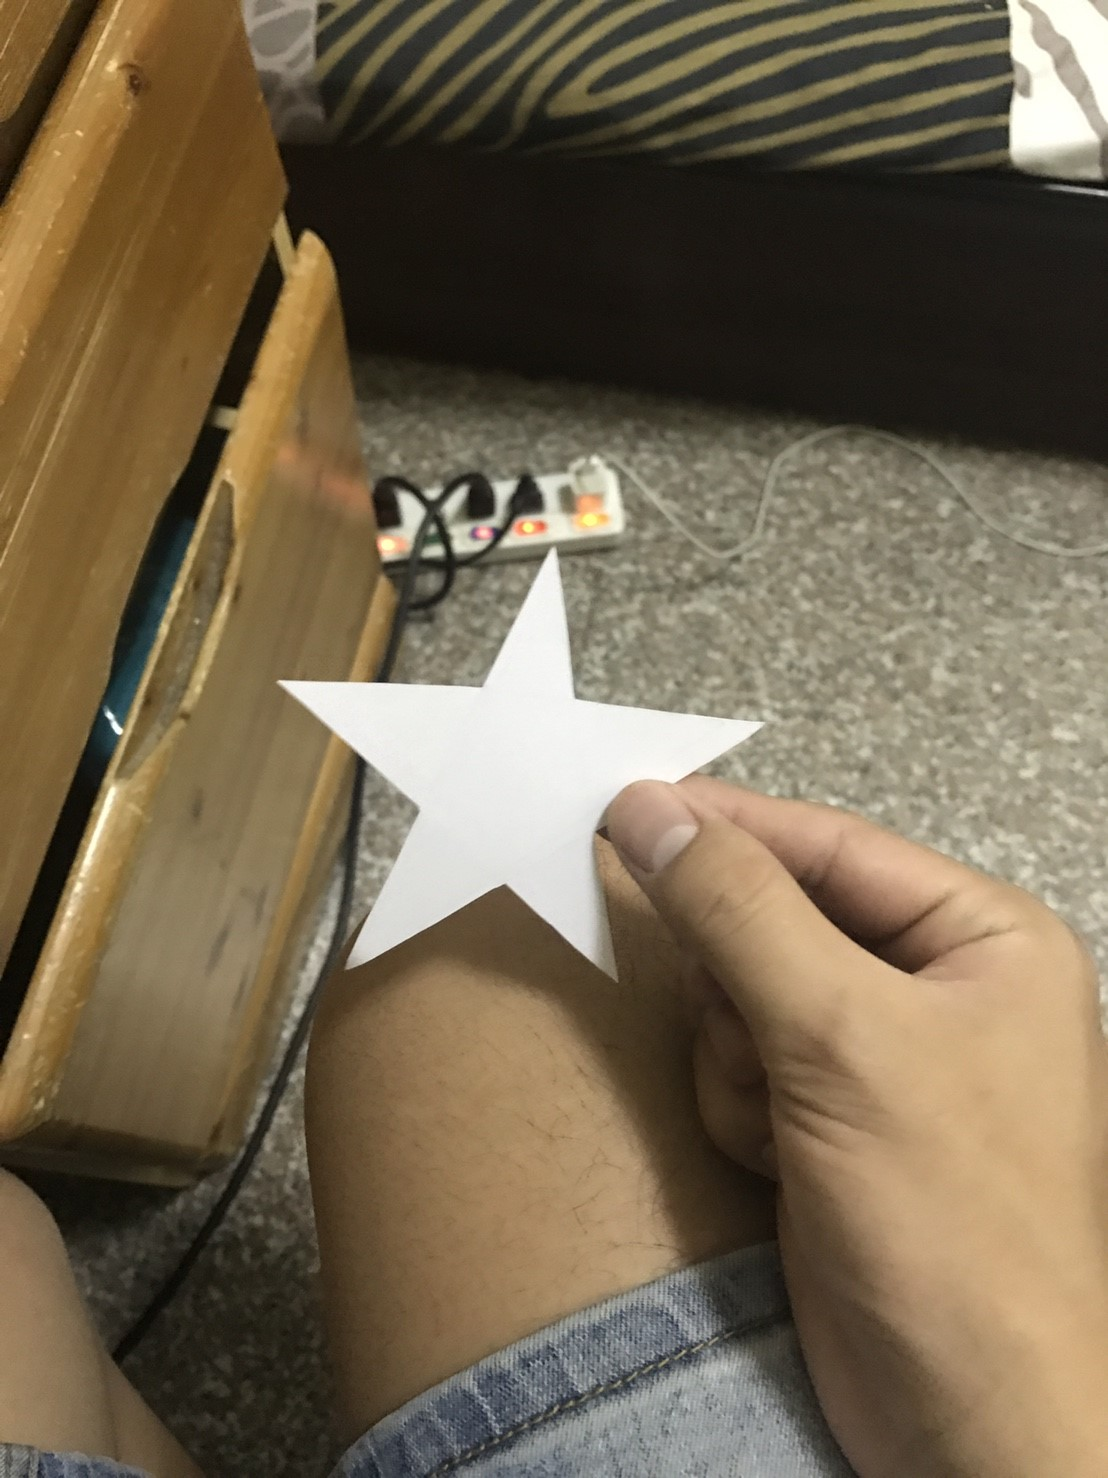star: (182, 521, 855, 1000)
